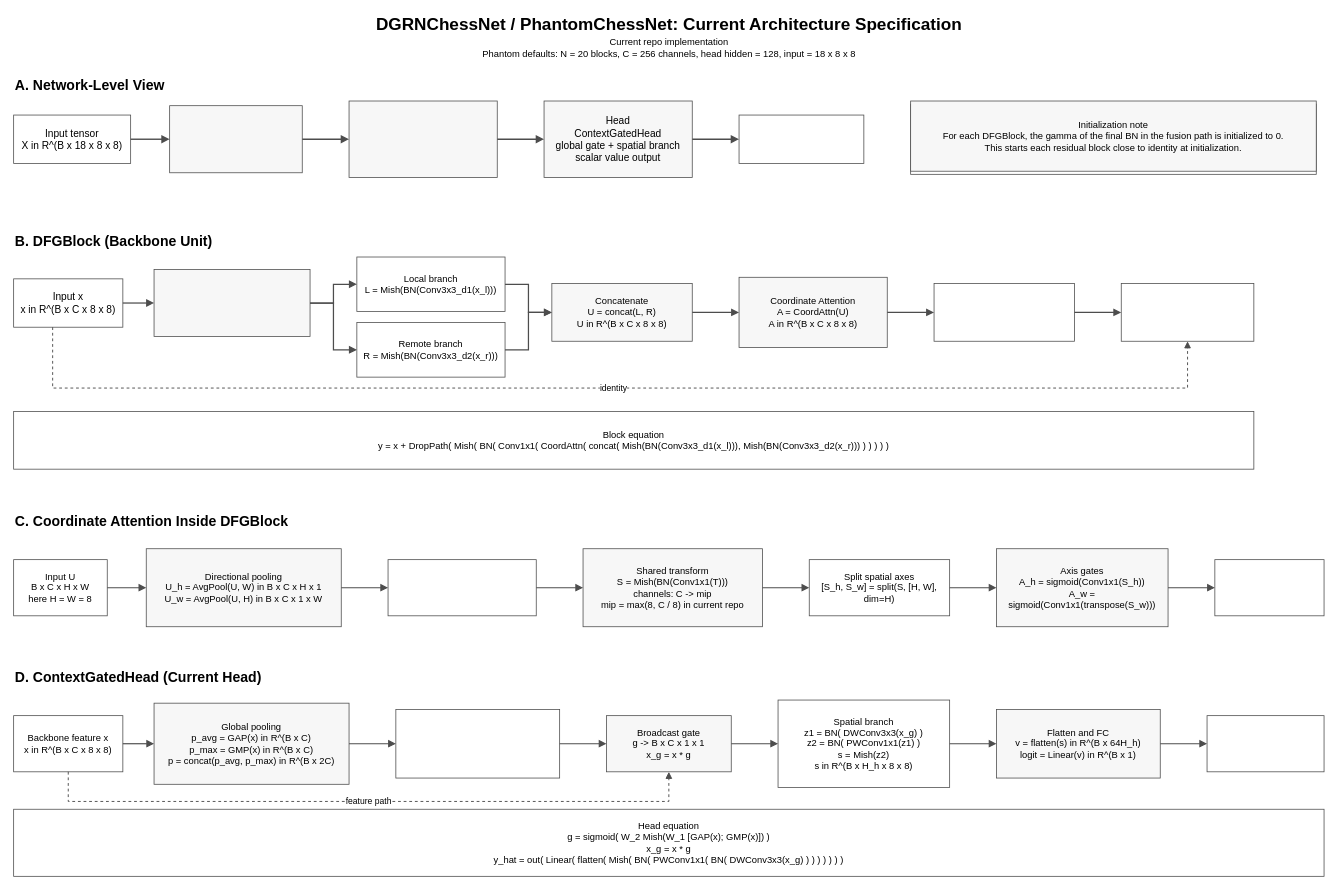
Image size: 1338x890. Some labels were removed from this diagram. The centre of each missing label's shape, as x and y in pixels:
"Attention output CoordAttn(U) = U * A_h * A_w" goes at [1269,587].
"Backbone N x DFGBlock resolution fixed at 8 x 8 channels fixed at C" goes at [422,138].
"Channel split [x_l, x_r] = chunk(x, 2, dim=1) x_l, x_r in R^(B x C/2 x 8 x 8)" goes at [231,303].
"Fusion F = Mish(BN(Conv1x1(A)))" goes at [1003,312].
"Gate MLP h = Linear( Mish( Linear(p) ) ) g = sigmoid(h) in R^(B x C)" goes at [477,743].
"Output mode y_hat = tanh(logit) or y_hat = logit" goes at [1265,743].
"Output y_hat in R^(B x 1) tanh(logit) or logit" goes at [801,138].
"Rearrange and concatenate T = concat(U_h, transpose(U_w), dim=H)" goes at [461,587].
"Residual output y = x + DropPath(F)" goes at [1187,312].
"Stem Conv 3x3, 18 -> C BN Mish Output: B x C x 8 x 8" goes at [235,139].
